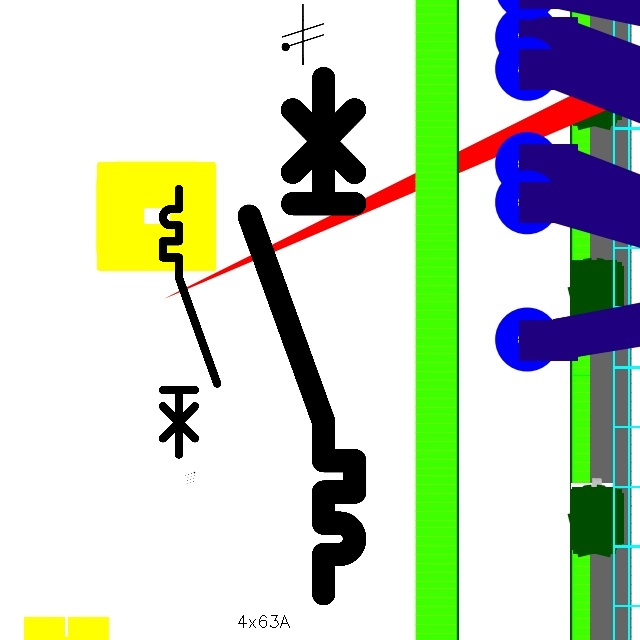interruptor_termomagnetico: (236, 65, 368, 606), (156, 182, 224, 461)
